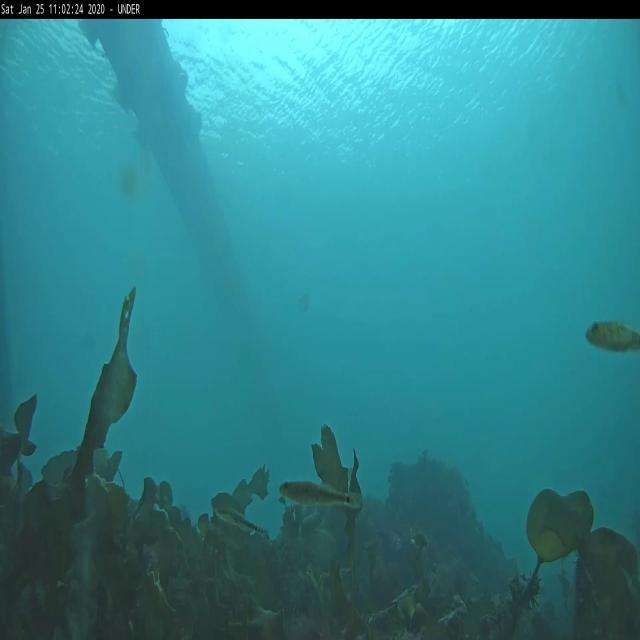fish: (278, 480, 362, 514), (586, 314, 638, 354), (210, 506, 268, 538)
